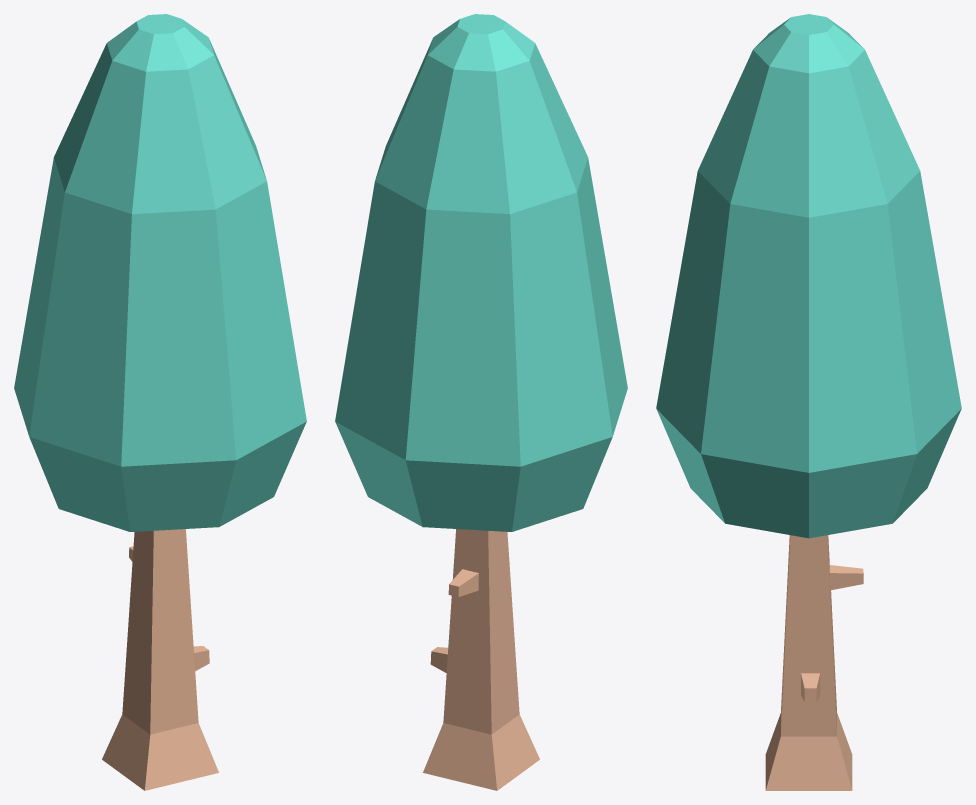
The model's file is tree_cone.glb.
The picture shows the model from 3 angles, left to right: view 1: azimuth 30°, elevation 25°; view 2: azimuth 150°, elevation 25°; view 3: azimuth 270°, elevation 25°; orthographic projection.
Visible parts, largest first — view 1: tree_cone; view 2: tree_cone; view 3: tree_cone.
Part boxes in pixels (x1,y1,x2,y2): tree_cone: (14,14,306,790); tree_cone: (335,14,627,790); tree_cone: (656,14,961,790).
Size of the model in its own units: 0.5297 by 1.43 by 0.5297.
1 material, 1 textured.
